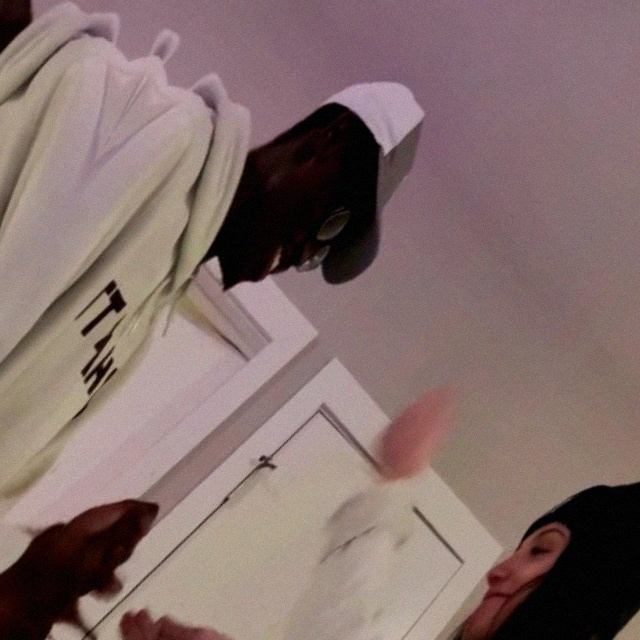Rock: (355, 364, 481, 502), (55, 460, 181, 591)
